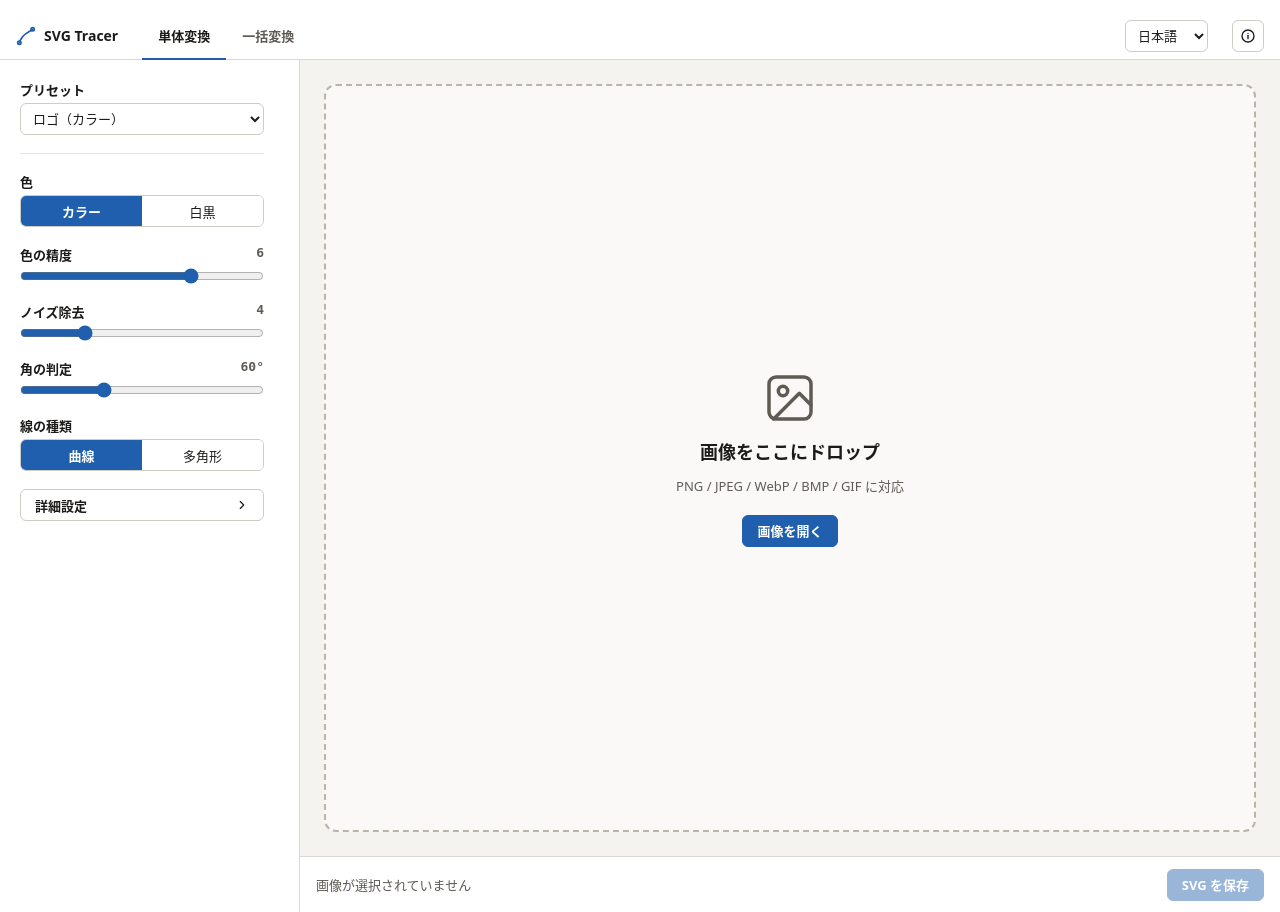
Test case: App › switches UI language dynamically
Select "English" in the dropdown named "言語" at point(1166, 36), box [1125, 20, 1208, 52]
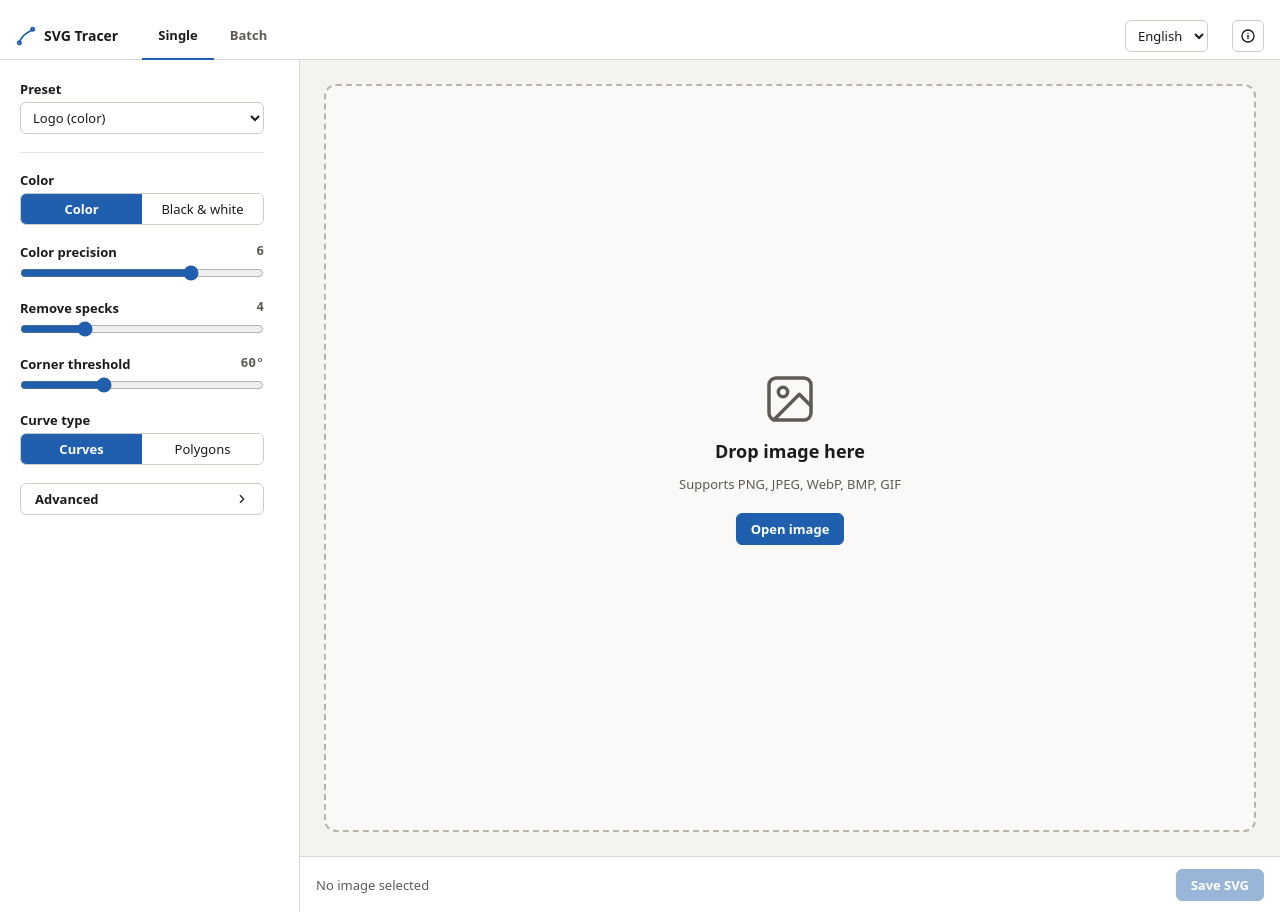
Expected: the tab "Single" is shown, [142, 12, 214, 60]
Expected: the text "Remove specks" is shown, [20, 299, 119, 317]
